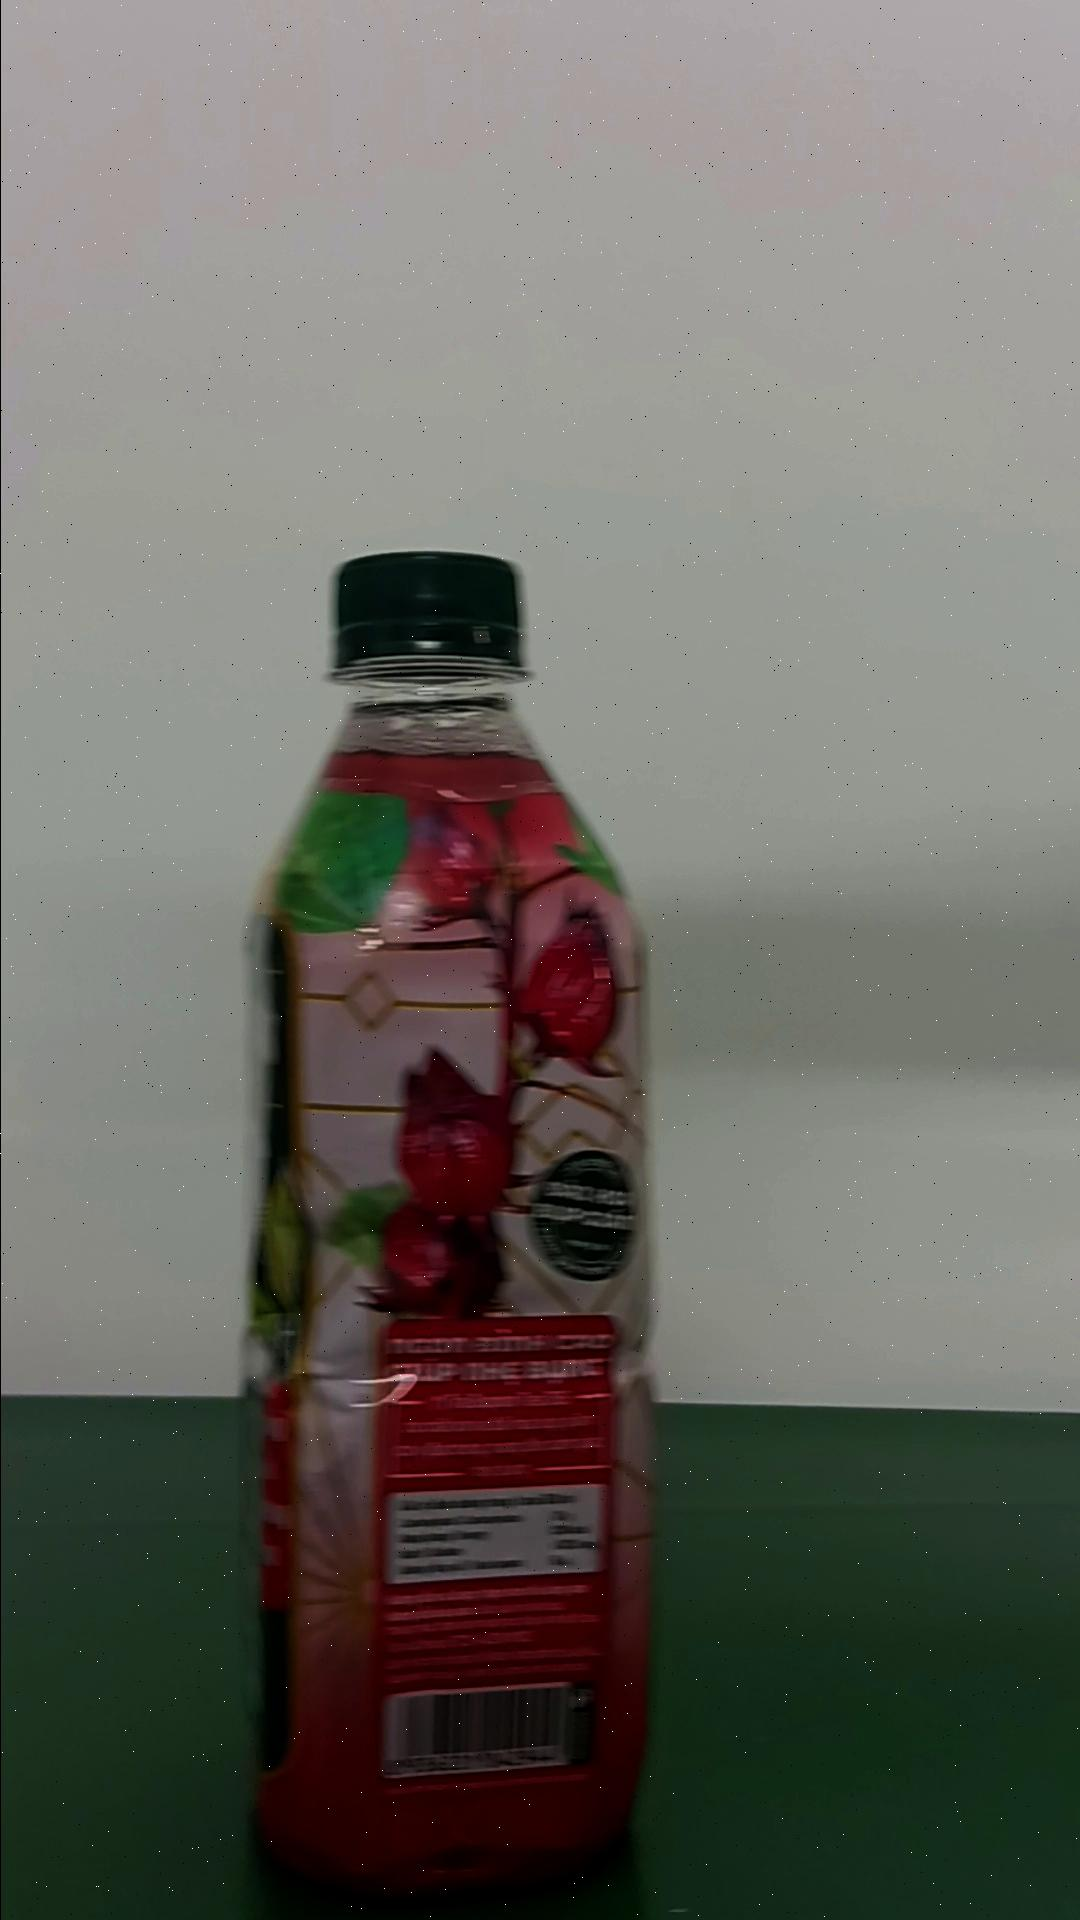loi meo sp: (243, 547, 661, 1898)
